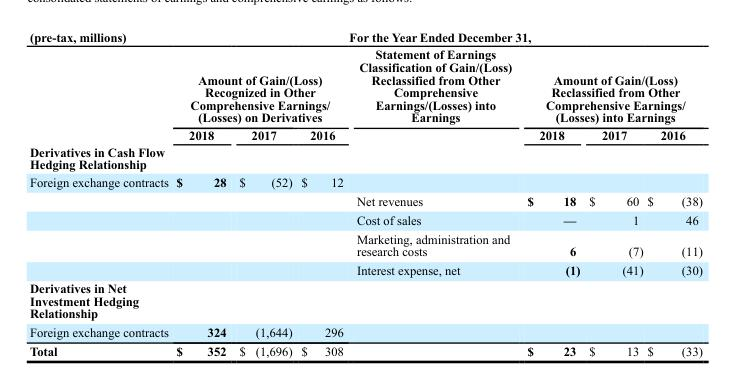table: (28, 29, 701, 357)
table column: (349, 29, 518, 357), (28, 29, 171, 357), (518, 29, 583, 357), (232, 29, 296, 357), (171, 29, 232, 357), (583, 29, 644, 357), (644, 29, 701, 357), (296, 29, 349, 357)
table column header: (28, 29, 701, 143)
table projected row header: (28, 278, 701, 322), (28, 143, 701, 172)
table row: (28, 45, 701, 126), (28, 278, 701, 322), (28, 228, 701, 260), (28, 143, 701, 172), (28, 172, 701, 191), (28, 191, 701, 210), (28, 322, 701, 341), (28, 210, 701, 228), (28, 260, 701, 278), (28, 126, 701, 143), (28, 29, 701, 45), (28, 341, 701, 357)
table spanning cell: (349, 45, 518, 143), (28, 29, 171, 143), (518, 45, 701, 126), (171, 45, 349, 126), (171, 29, 701, 45)
